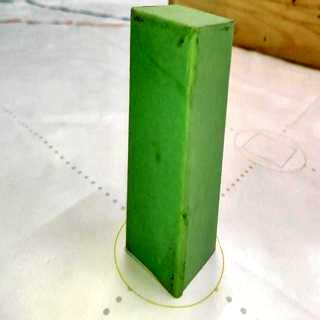greenbox: (131, 5, 227, 296)
